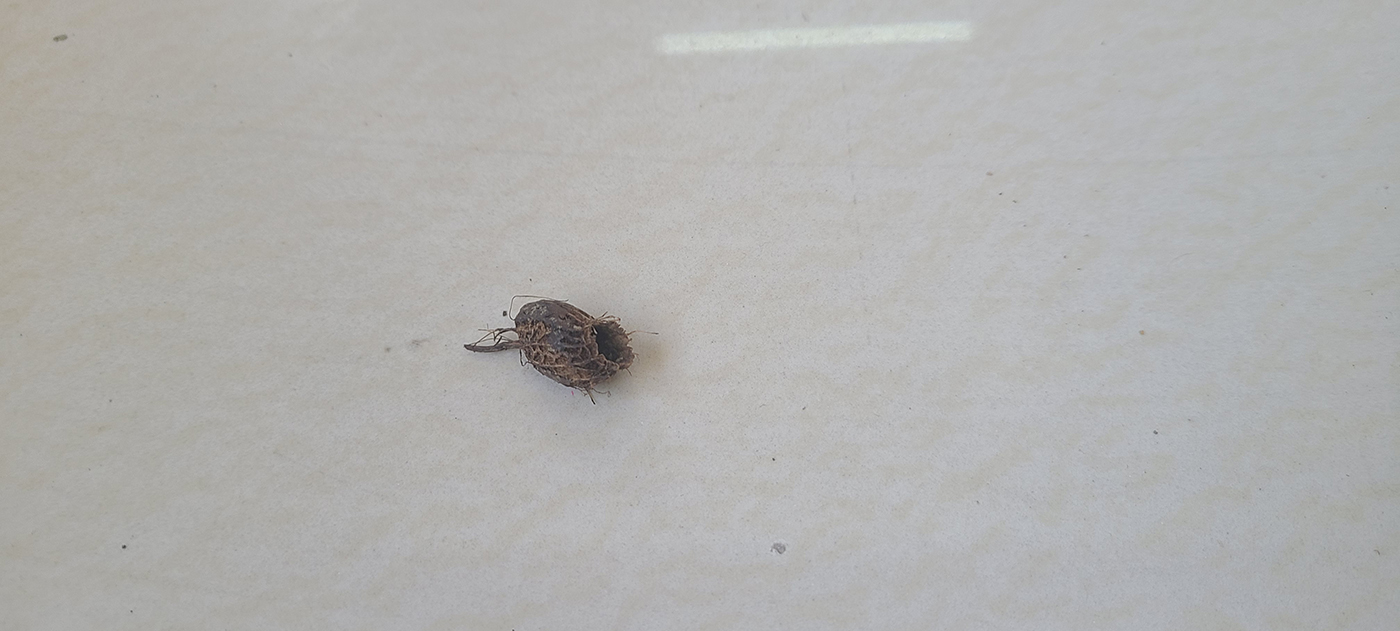l: (511, 299, 634, 392)
